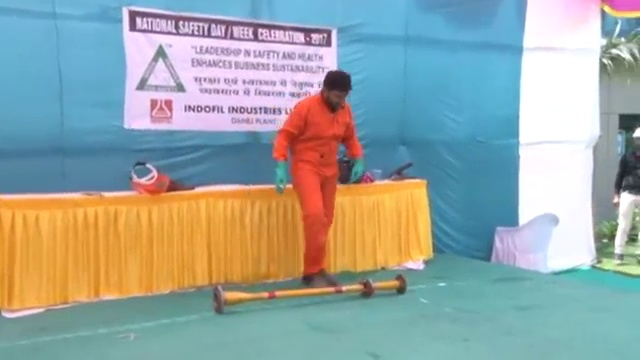helmet: (630, 126, 640, 139)
helmet_off: (323, 69, 354, 112)
helmet_on: (628, 124, 640, 154)
person: (270, 69, 365, 290), (612, 125, 640, 266)
